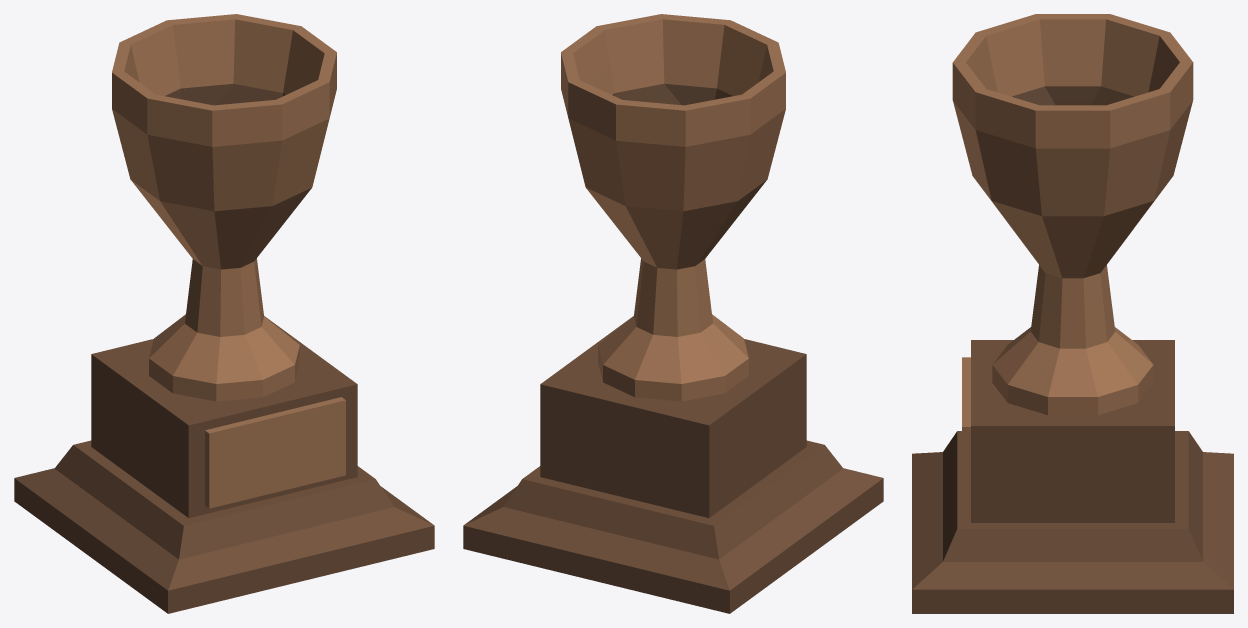
The model's file is SM_Prop_Trophy_03.obj.
The picture shows the model from 3 angles, left to right: view 1: azimuth 30°, elevation 25°; view 2: azimuth 150°, elevation 25°; view 3: azimuth 270°, elevation 25°; orthographic projection. The views are drawn at different scales.
Visible parts, largest first — view 1: SM_Prop_Trophy_03_0; view 2: SM_Prop_Trophy_03_0; view 3: SM_Prop_Trophy_03_0.
Part boxes in pixels (<box>): SM_Prop_Trophy_03_0: <box>14,14,434,613</box>; SM_Prop_Trophy_03_0: <box>463,14,883,613</box>; SM_Prop_Trophy_03_0: <box>912,14,1233,613</box>.
Size of the model in its own units: 0.2161 by 0.3583 by 0.2161.
Materials: 1 (1 with a texture image).
